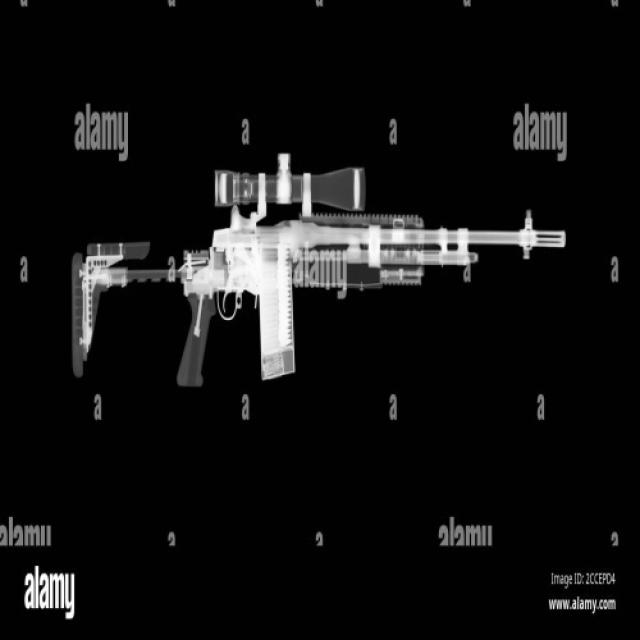Gun: (56, 155, 585, 433)
